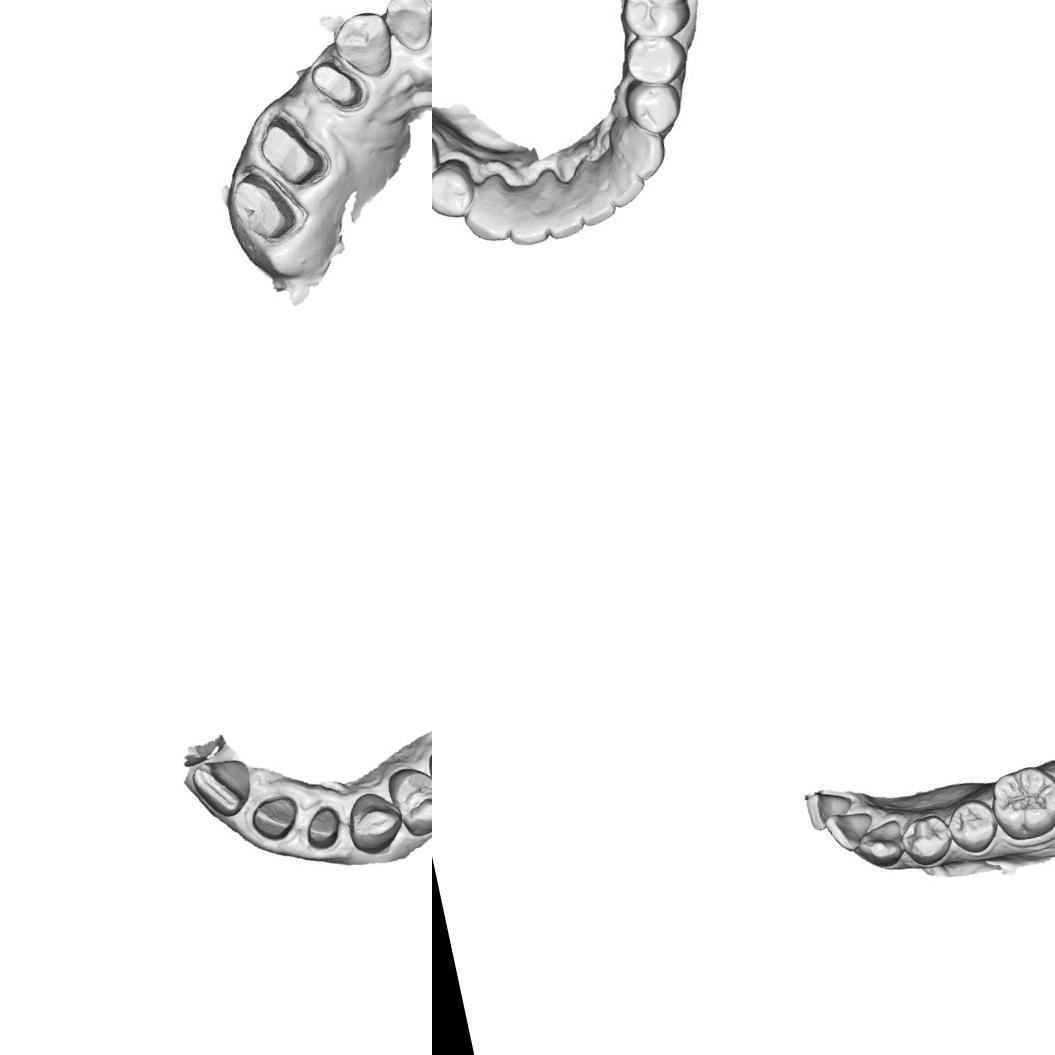canine: (328, 6, 398, 83), (342, 786, 410, 860), (456, 175, 518, 248), (610, 112, 672, 184), (854, 816, 910, 872)
crown: (224, 161, 308, 250), (252, 110, 328, 194), (306, 55, 368, 120), (246, 789, 305, 847), (297, 800, 348, 854)
incisor: (187, 749, 258, 826), (566, 154, 618, 230), (498, 182, 554, 252), (536, 168, 588, 243), (596, 148, 650, 213), (379, 0, 432, 58), (822, 806, 880, 856), (803, 784, 856, 832)
molar: (984, 757, 1055, 846), (609, 0, 703, 48)
premolar: (620, 28, 694, 94), (618, 75, 689, 141), (383, 759, 432, 843), (942, 794, 1002, 860), (895, 810, 956, 870), (432, 154, 481, 226)
